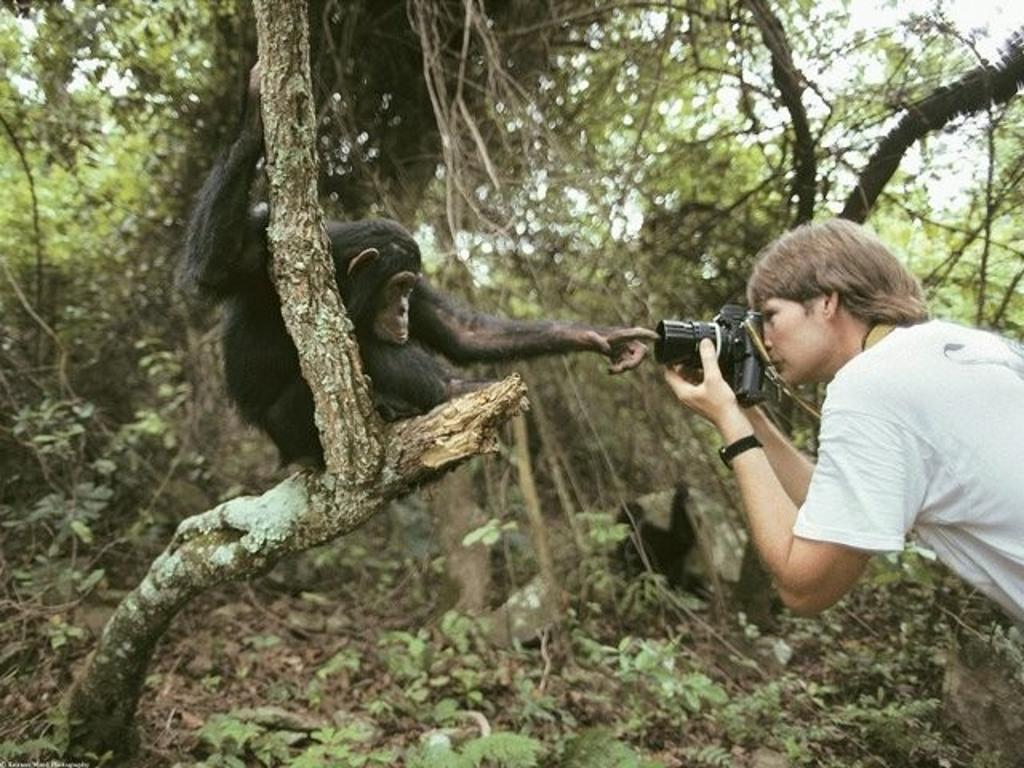face: (755, 291, 831, 381)
